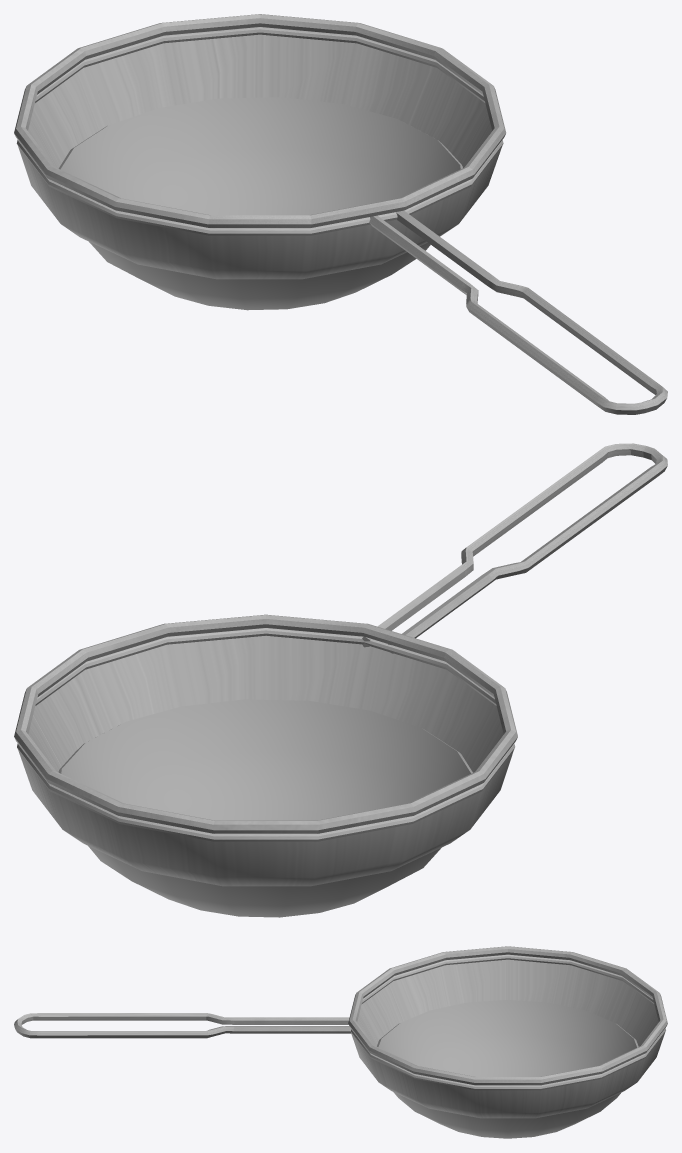
File: Tea strainer.fbx
3 renders of one model, top to bottom at view 1: azimuth 30°, elevation 25°; view 2: azimuth 150°, elevation 25°; view 3: azimuth 270°, elevation 25°, orthographic. The views are drawn at different scales.
Parts seen in each view (by area): view 1: Tea_strainer; view 2: Tea_strainer; view 3: Tea_strainer.
Boxes of the visible parts, x1,y1,x2,y2 form: Tea_strainer: (14,14,667,414); Tea_strainer: (14,443,667,917); Tea_strainer: (14,946,667,1138).
Bounding box in the file's own units: 7.32 × 2.76 × 15.05.
Materials: 2 (1 with a texture image).
